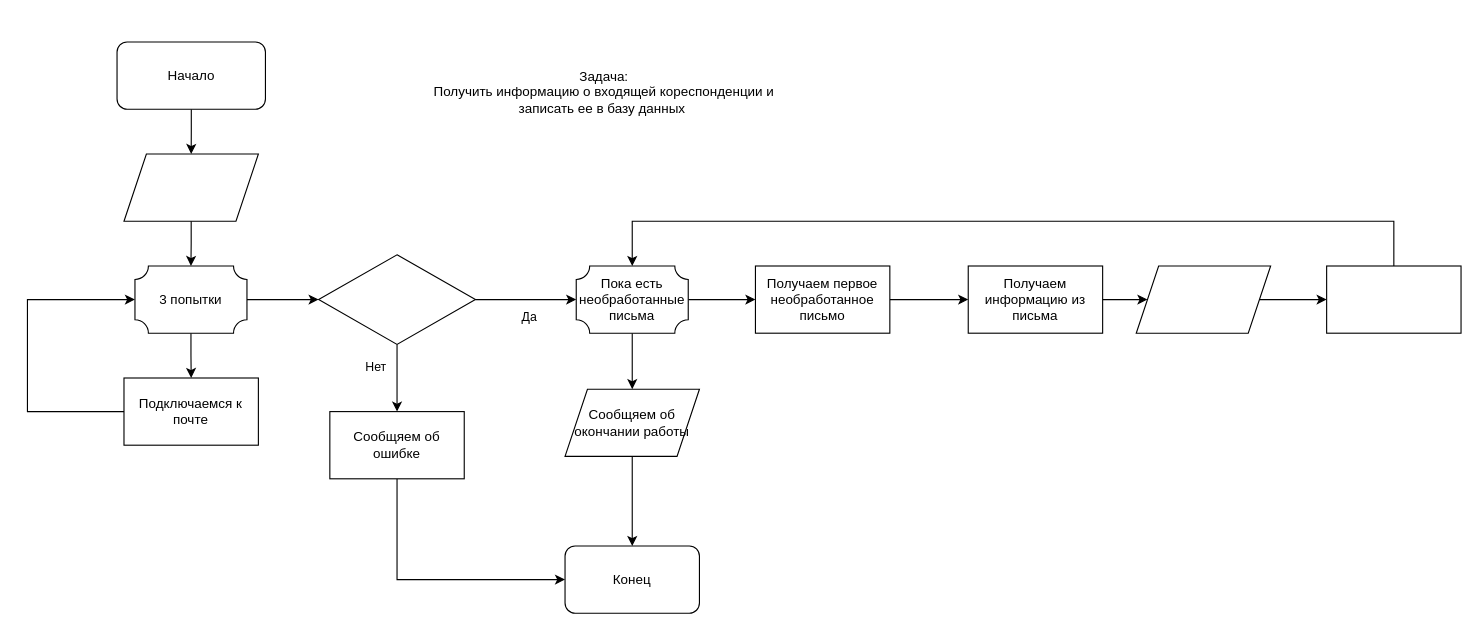
This 1481x633 diagram has some shape labels left out. Here are the shapes that lost their labels. From the top down, the box of each, then its label:
(123, 153, 258, 221): Берем логин и пароль от почты
(318, 254, 475, 344): Подключились ?
(1135, 265, 1271, 333): Записываем информацию
(1326, 265, 1461, 333): Помечаем пиьсмо как обработанное
